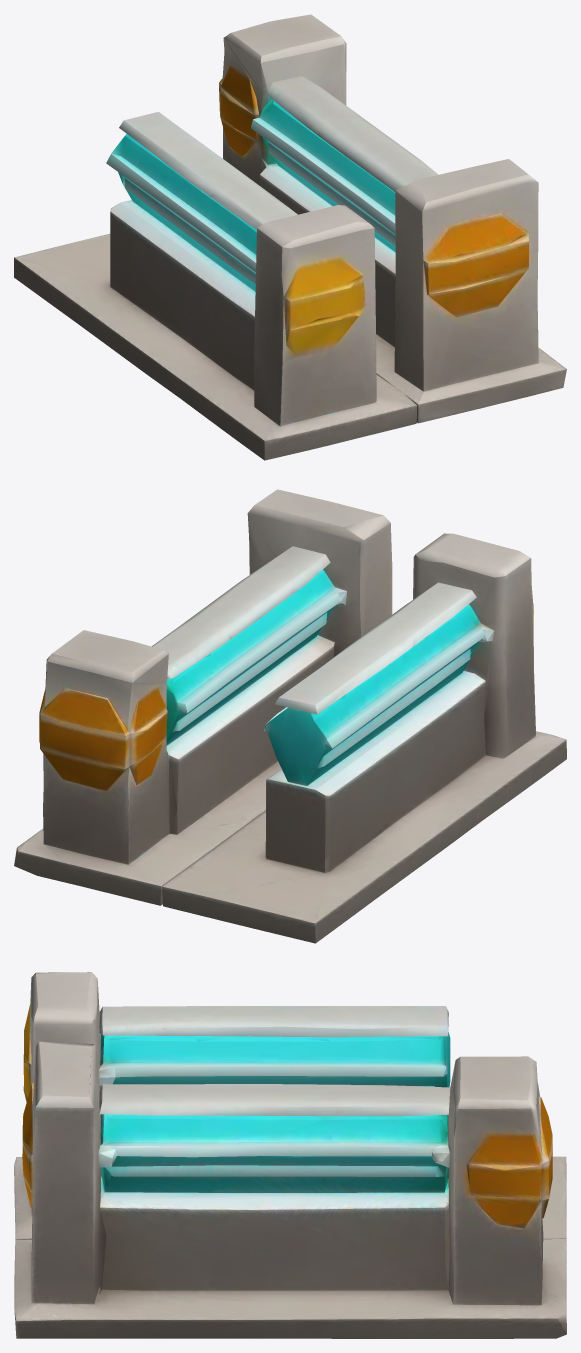
Rendered from m2CityBarrier.glb.
3 renders of one model, top to bottom at view 1: azimuth 30°, elevation 25°; view 2: azimuth 150°, elevation 25°; view 3: azimuth 270°, elevation 25°, orthographic. The views are drawn at different scales.
Parts seen in each view (by area): view 1: model; view 2: model; view 3: model.
Boxes of the visible parts, x1,y1,x2,y2 form: model: (14,14,566,460); model: (14,489,566,943); model: (14,972,566,1338).
Size of the model in its own units: 1.32 by 0.8756 by 1.9.
Materials: 1 (1 with a texture image).
